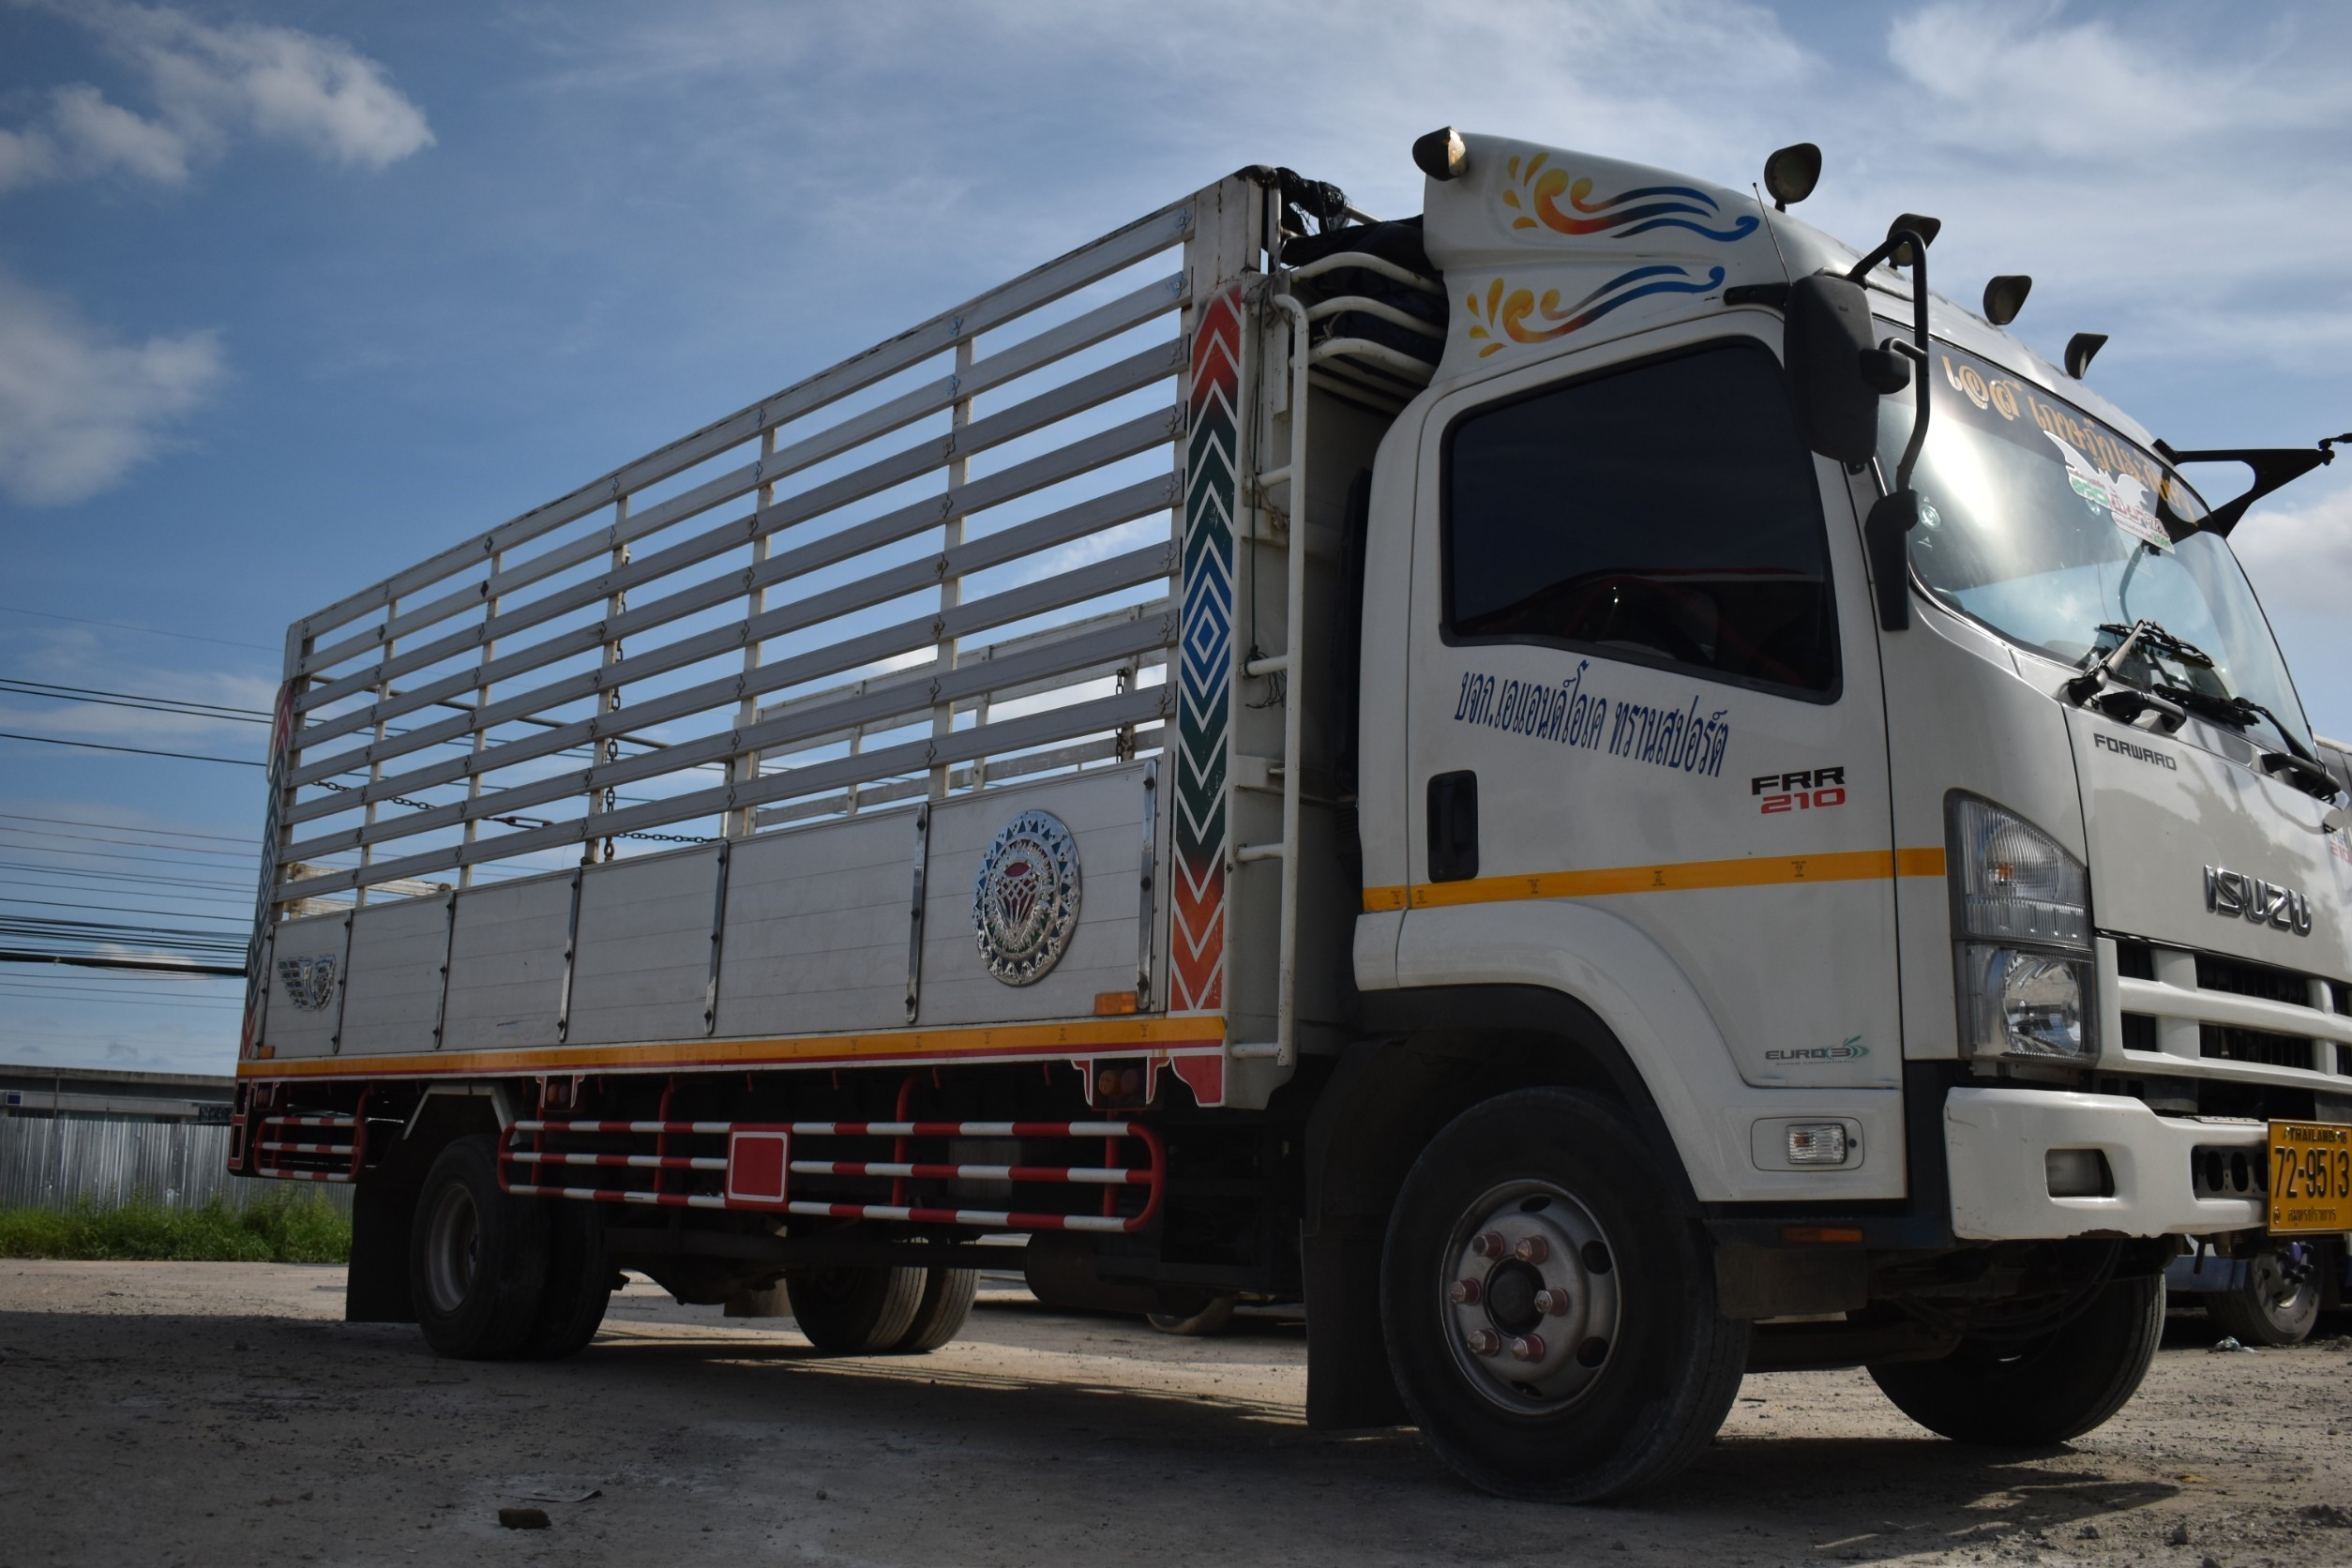truck: (238, 133, 2345, 1487)
